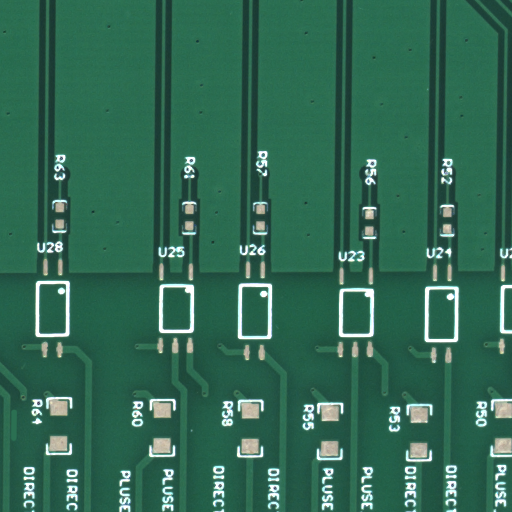Spurious_copper: (14, 426, 24, 461)
